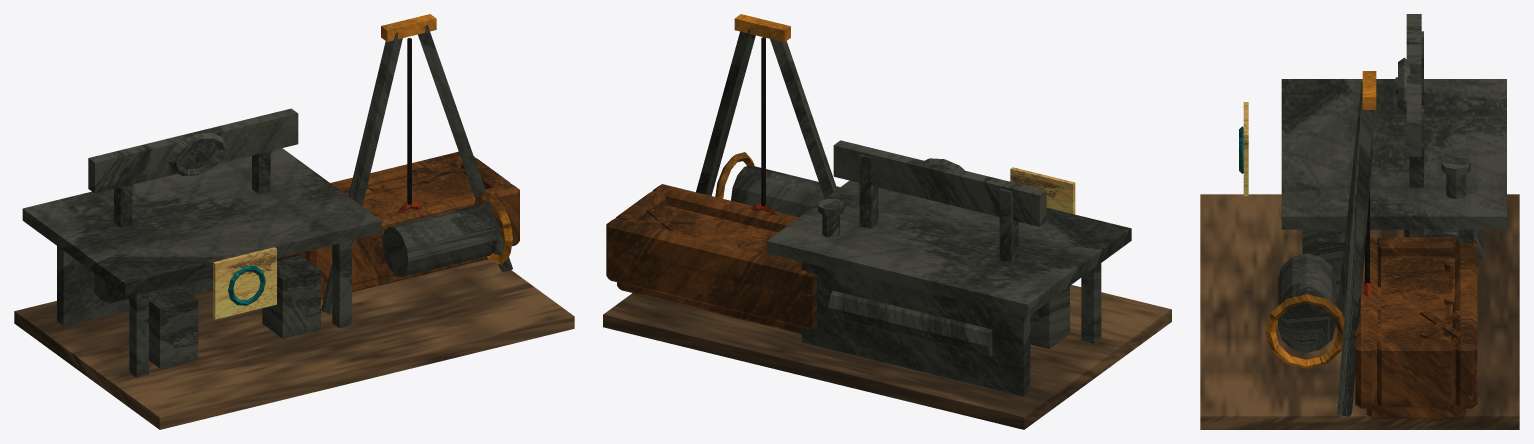
The model's file is west-road-wrecker-shed.glb.
3 renders of one model, left to right at view 1: azimuth 30°, elevation 25°; view 2: azimuth 150°, elevation 25°; view 3: azimuth 270°, elevation 25°, orthographic. The views are drawn at different scales.
Parts seen in each view (by area): view 1: west-road-wrecker-shed; view 2: west-road-wrecker-shed; view 3: west-road-wrecker-shed.
Boxes of the visible parts, bbox=[...] form: west-road-wrecker-shed: bbox=[14, 14, 574, 429]; west-road-wrecker-shed: bbox=[603, 14, 1171, 429]; west-road-wrecker-shed: bbox=[1200, 14, 1519, 429].
Size of the model in its own units: 8.77 by 5.26 by 5.1.
Materials: 1 (1 with a texture image).
